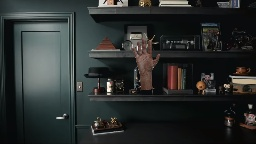Mano_aperta: (131, 37, 161, 73)
